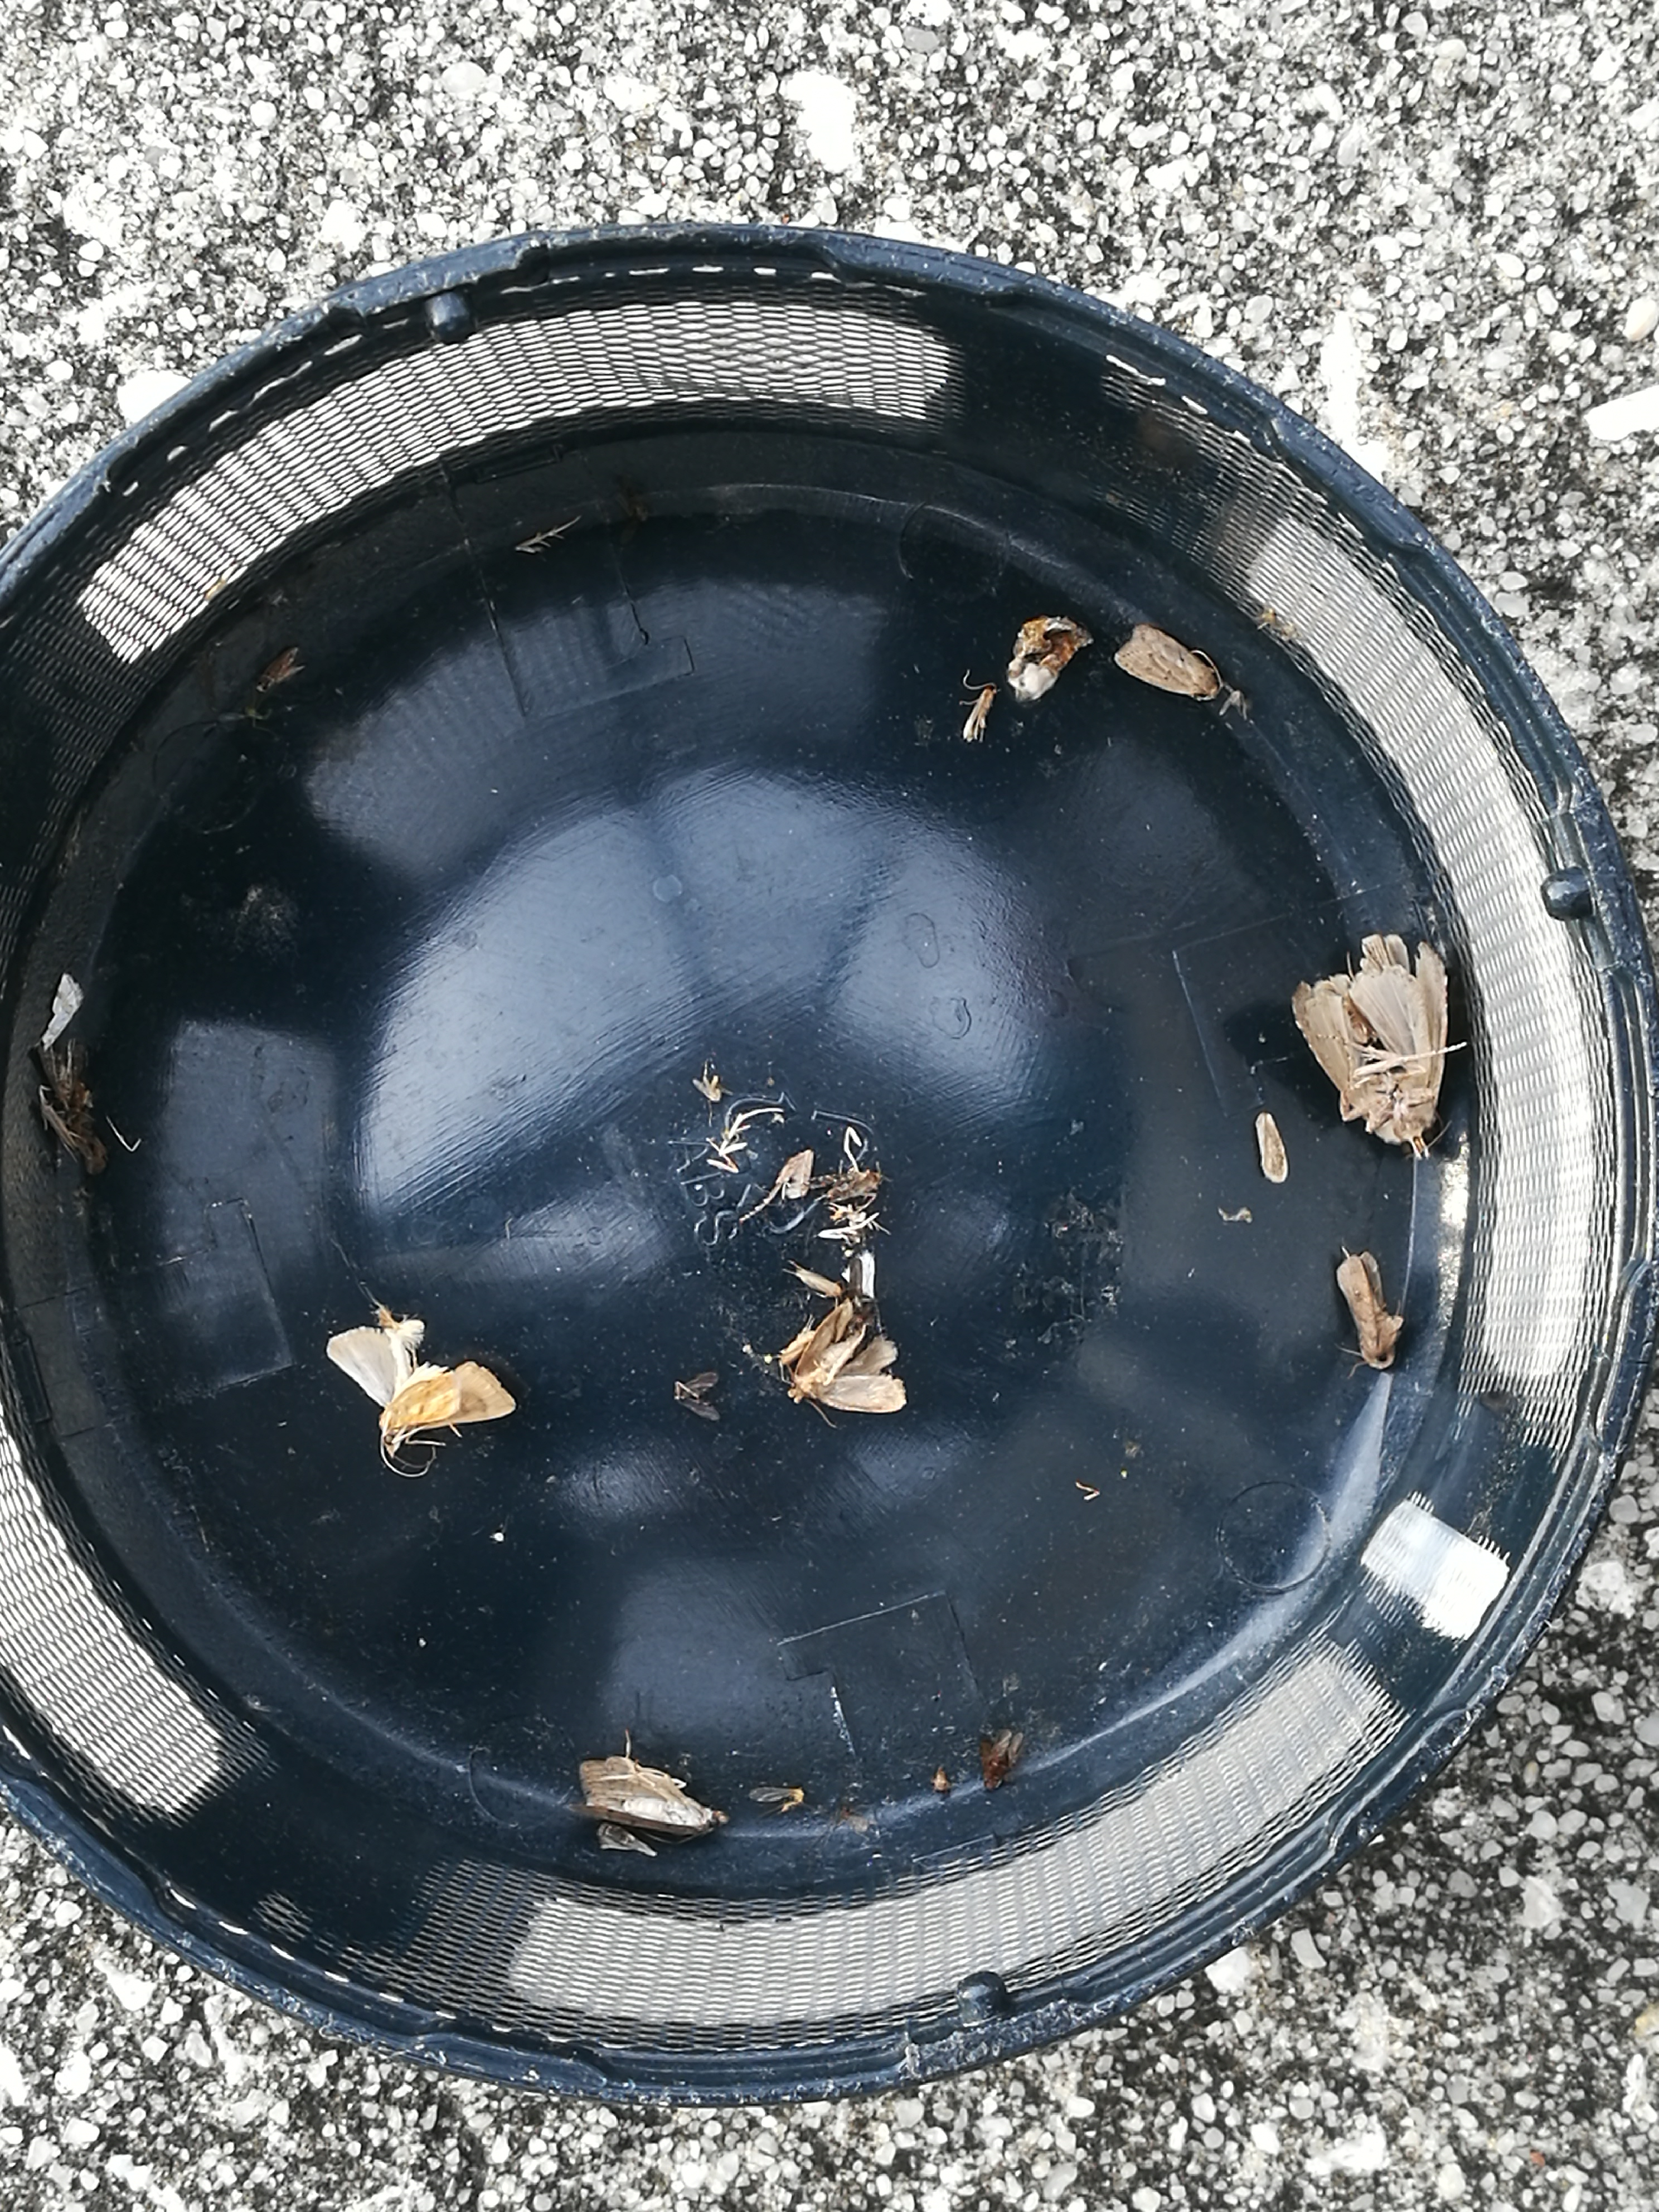moth: (1293, 934, 1448, 1143), (328, 1325, 516, 1456), (786, 1305, 904, 1414), (575, 1757, 725, 1832), (1114, 624, 1213, 693), (1340, 1251, 1394, 1369)
